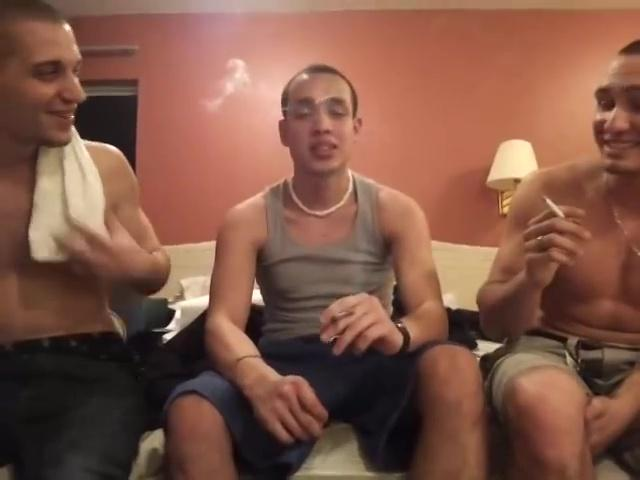cigarette: (328, 306, 357, 326), (541, 197, 569, 216)
